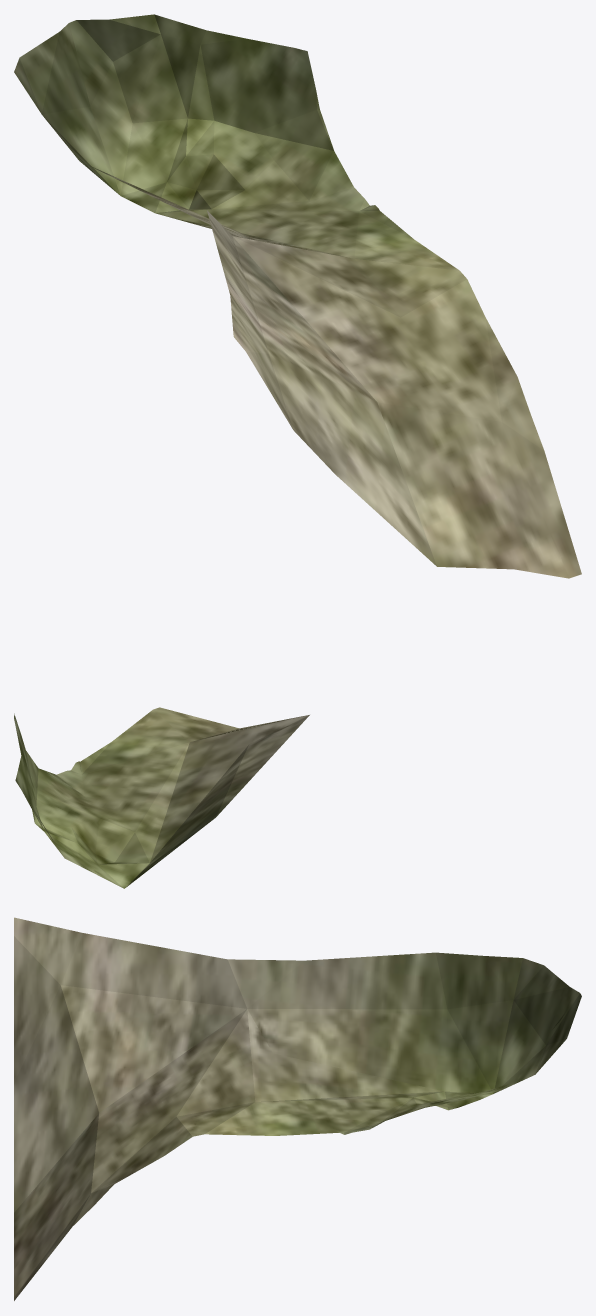
3 renders of one model, top to bottom at view 1: azimuth 30°, elevation 25°; view 2: azimuth 150°, elevation 25°; view 3: azimuth 270°, elevation 25°, orthographic. The views are drawn at different scales.
Size of the model in its own units: 1.39 by 1.24 by 2.53.
Materials: 1 (1 with a texture image).
